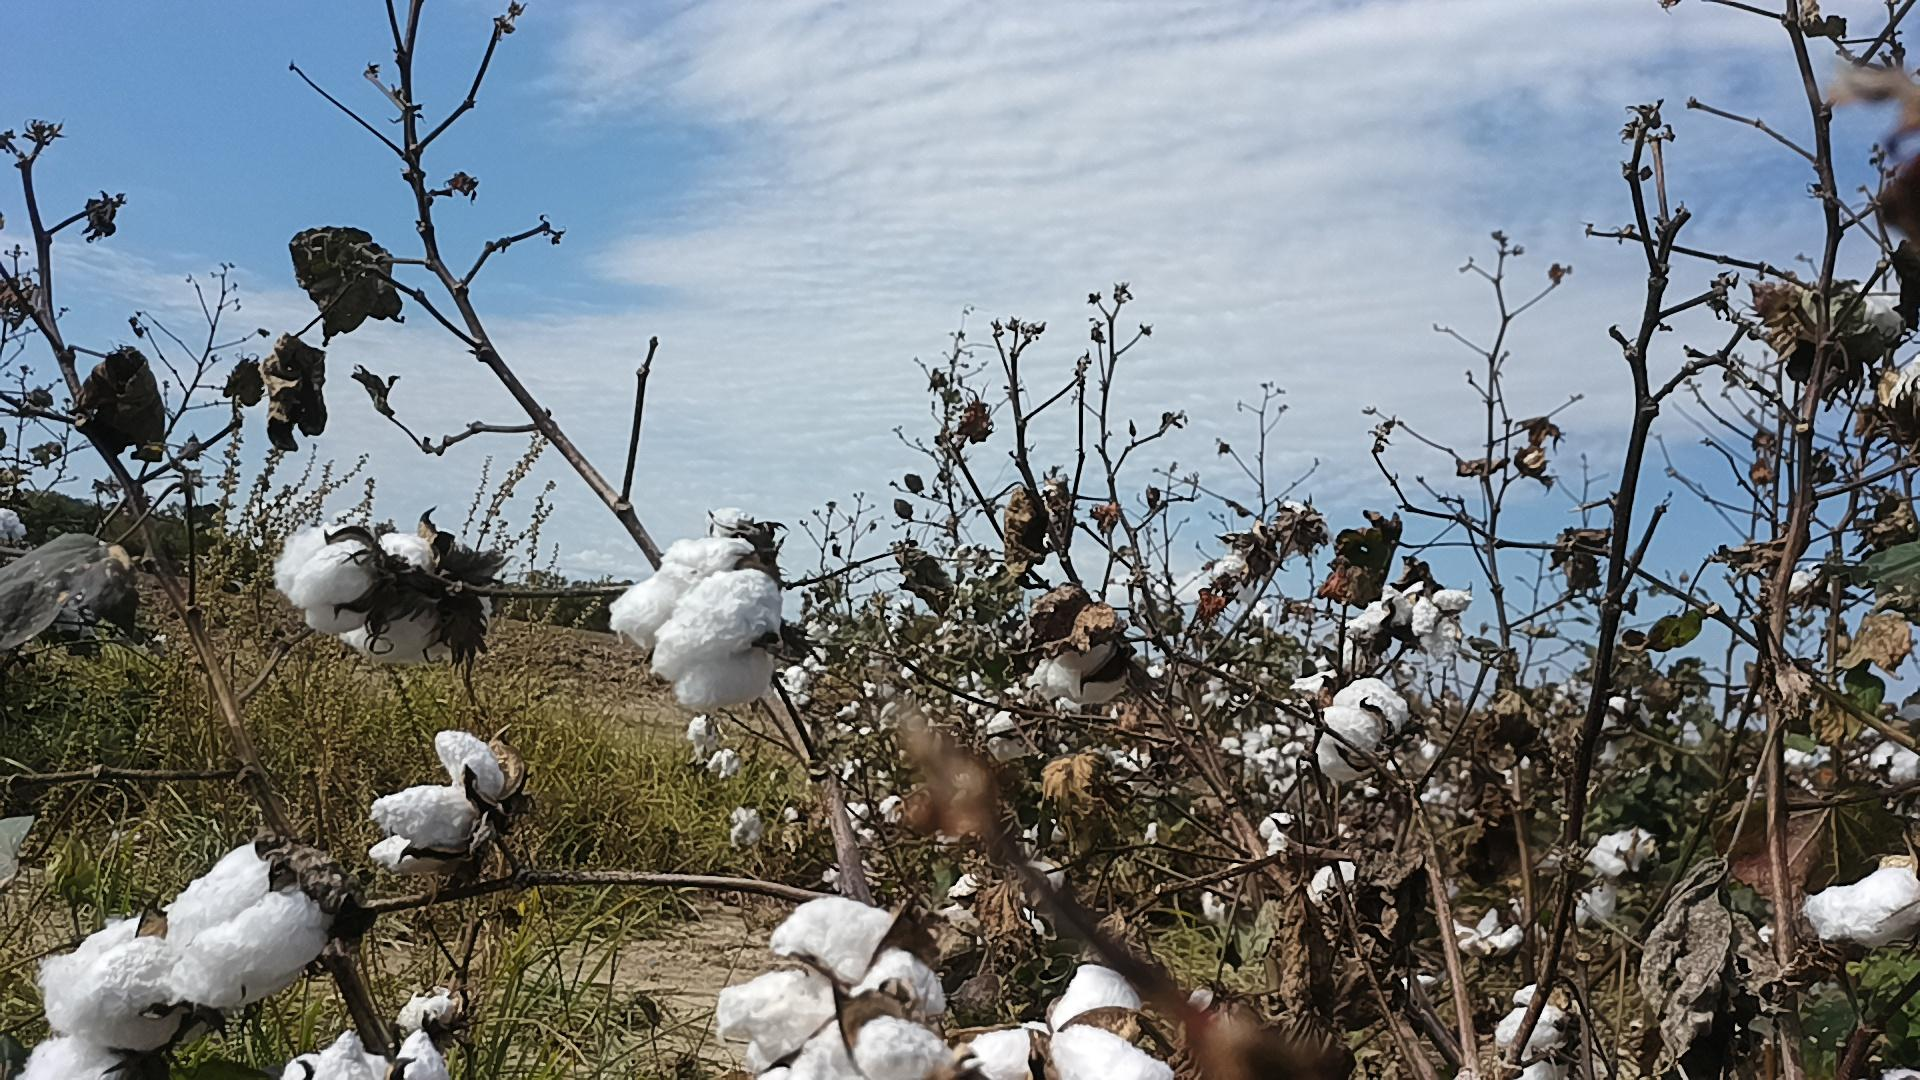cotton_ready: (716, 893, 948, 1080), (608, 535, 789, 715), (167, 836, 353, 1009), (38, 910, 211, 1059), (969, 963, 1183, 1080), (365, 728, 508, 862), (340, 530, 477, 669), (270, 516, 388, 637), (1317, 675, 1418, 785), (1803, 866, 1920, 940), (287, 1029, 451, 1080), (1023, 636, 1130, 707), (16, 1035, 173, 1080)
